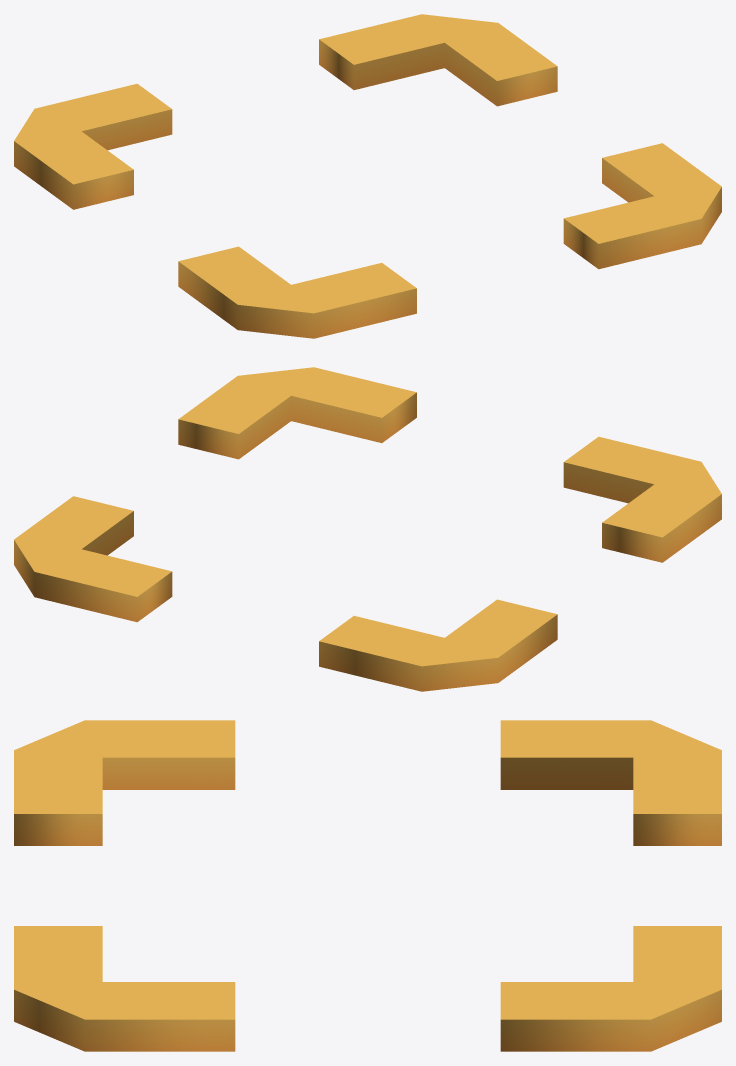
File: selection-a.glb
3 renders of one model, top to bottom at view 1: azimuth 30°, elevation 25°; view 2: azimuth 150°, elevation 25°; view 3: azimuth 270°, elevation 25°, orthographic. The views are drawn at different scales.
Parts seen in each view (by area): view 1: selection-a; view 2: selection-a; view 3: selection-a.
Part boxes in pixels (x1,y1,x2,y2): selection-a: (14,14,721,338); selection-a: (14,367,721,691); selection-a: (14,720,721,1051).
Size of the model in its own units: 1 by 0.0501 by 1.
Materials: 1 (1 with a texture image).
